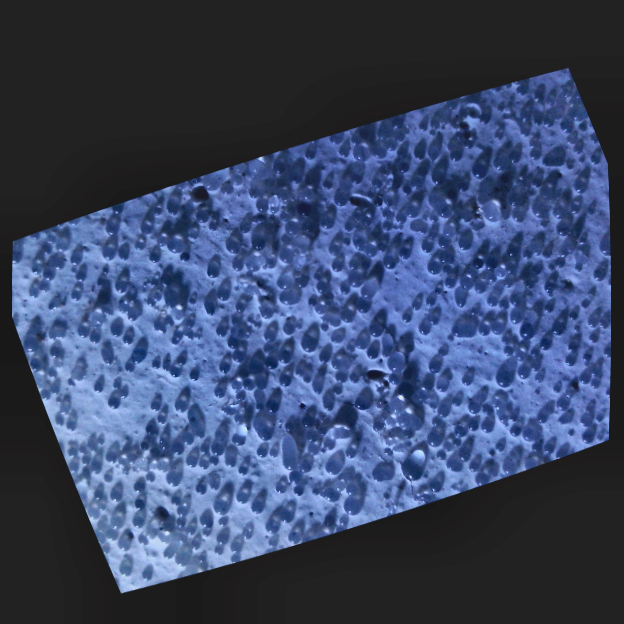GrassBeadSeg: (137, 144, 582, 546), (161, 117, 550, 525), (138, 227, 578, 556), (217, 150, 596, 527), (73, 202, 488, 506), (200, 214, 590, 537), (67, 214, 545, 473), (133, 247, 569, 529), (208, 85, 502, 490), (92, 209, 485, 502), (117, 205, 416, 577), (162, 211, 470, 560), (66, 249, 548, 469), (75, 271, 505, 515), (72, 203, 470, 462), (107, 297, 591, 502), (217, 271, 605, 523), (141, 253, 438, 581), (212, 269, 602, 515), (116, 150, 461, 428), (287, 172, 595, 481), (88, 146, 368, 474), (77, 181, 587, 361), (64, 267, 596, 432), (217, 185, 501, 491), (197, 170, 439, 527), (30, 264, 390, 500), (307, 149, 600, 432), (116, 249, 387, 553), (240, 264, 540, 537), (212, 296, 599, 506), (84, 194, 397, 453), (78, 271, 513, 455), (166, 174, 460, 446), (29, 188, 311, 468), (188, 182, 470, 460), (121, 279, 505, 476), (278, 164, 487, 516), (131, 323, 489, 528), (153, 211, 461, 443), (48, 242, 277, 548), (41, 258, 413, 438), (225, 241, 601, 419), (276, 165, 485, 476), (208, 205, 452, 466), (174, 357, 492, 557), (271, 162, 553, 383), (39, 209, 394, 383), (12, 260, 335, 451), (179, 252, 505, 438), (167, 257, 485, 446), (110, 203, 398, 410), (54, 241, 371, 427), (263, 227, 569, 417), (116, 224, 523, 360), (95, 221, 300, 491), (155, 236, 540, 372), (70, 291, 379, 458), (219, 183, 521, 351), (105, 223, 286, 491), (125, 302, 553, 412), (329, 261, 588, 441), (307, 196, 516, 417), (88, 241, 609, 329), (41, 269, 526, 363), (105, 355, 348, 541), (244, 146, 517, 308), (235, 167, 422, 399), (101, 247, 529, 348), (291, 323, 535, 496), (212, 380, 447, 555), (177, 346, 593, 444), (259, 323, 564, 455), (173, 261, 437, 410), (174, 277, 308, 567), (113, 281, 312, 474), (242, 176, 424, 383), (12, 210, 525, 281), (173, 322, 566, 413), (124, 193, 220, 551), (312, 205, 448, 454), (228, 162, 313, 554), (230, 225, 381, 445), (288, 343, 567, 459), (314, 283, 598, 392), (198, 192, 314, 454), (150, 276, 472, 370), (209, 217, 334, 457), (188, 220, 548, 301), (132, 357, 297, 533), (165, 331, 345, 487), (287, 221, 394, 483), (299, 237, 497, 376), (28, 283, 195, 446), (148, 252, 523, 324), (41, 274, 350, 361), (389, 224, 569, 372), (133, 289, 247, 510), (240, 301, 365, 500), (322, 224, 457, 406), (58, 406, 312, 494), (120, 335, 248, 504), (75, 325, 576, 367), (156, 322, 249, 540), (109, 301, 195, 534), (88, 312, 186, 516), (165, 238, 230, 536), (235, 413, 547, 475), (255, 360, 442, 457), (296, 203, 542, 276), (49, 351, 587, 384), (359, 365, 590, 440), (151, 281, 267, 429), (366, 324, 481, 472), (185, 351, 329, 468), (228, 403, 333, 563), (263, 397, 381, 533), (416, 176, 582, 272), (450, 323, 565, 456), (96, 459, 298, 533), (108, 376, 473, 413), (138, 223, 518, 257), (214, 373, 289, 543), (328, 134, 433, 249), (249, 338, 317, 514), (194, 375, 291, 495), (70, 290, 159, 411), (343, 225, 454, 322), (337, 134, 445, 231), (167, 449, 274, 544), (286, 372, 345, 543), (100, 437, 186, 552), (97, 474, 211, 559), (229, 315, 342, 397), (176, 336, 401, 377), (149, 370, 360, 412), (432, 320, 501, 447), (284, 351, 513, 387), (204, 265, 370, 313), (134, 240, 200, 344), (106, 398, 181, 488), (93, 332, 200, 394), (364, 348, 431, 447), (277, 249, 323, 393), (508, 281, 555, 421), (338, 447, 424, 523), (22, 229, 78, 345), (322, 439, 442, 492), (441, 107, 547, 166), (331, 204, 420, 273), (220, 366, 324, 425), (368, 264, 441, 348), (48, 364, 112, 456), (509, 343, 561, 454), (395, 138, 520, 183), (562, 262, 610, 368), (139, 205, 277, 241), (275, 422, 341, 497), (491, 339, 551, 421), (95, 277, 193, 327), (86, 460, 164, 520), (171, 444, 446, 461), (196, 307, 231, 438), (521, 198, 583, 271), (63, 280, 149, 332), (375, 380, 421, 477), (326, 243, 610, 257), (233, 266, 298, 327), (248, 161, 293, 249), (527, 100, 596, 156), (196, 174, 267, 228), (234, 285, 375, 312), (384, 447, 459, 497), (278, 223, 322, 305), (550, 387, 608, 446), (497, 156, 547, 218), (272, 181, 331, 232), (322, 136, 381, 187), (230, 349, 303, 390), (566, 353, 600, 441), (160, 499, 205, 563), (379, 382, 424, 445), (491, 157, 549, 205), (202, 175, 248, 232), (332, 360, 438, 383), (352, 179, 406, 223), (344, 273, 474, 291), (528, 136, 598, 169), (146, 278, 193, 327), (516, 85, 570, 127), (362, 247, 449, 273), (373, 117, 423, 160), (339, 238, 363, 322), (480, 420, 516, 475), (261, 298, 314, 334), (48, 329, 111, 359), (237, 310, 279, 355), (80, 439, 139, 471), (277, 272, 323, 312), (360, 215, 435, 239), (127, 282, 174, 320), (299, 388, 342, 429), (416, 99, 460, 138), (558, 204, 591, 256), (343, 238, 393, 270), (472, 389, 511, 427), (419, 382, 460, 418), (140, 433, 169, 482), (441, 443, 483, 476), (109, 322, 141, 362), (23, 338, 47, 391), (69, 254, 107, 287), (41, 368, 79, 400), (48, 347, 76, 386), (245, 255, 289, 279), (473, 461, 511, 485), (465, 399, 494, 430), (107, 456, 154, 473), (324, 484, 344, 523), (291, 314, 339, 330), (377, 461, 417, 480), (493, 266, 535, 284), (518, 177, 547, 199), (370, 450, 390, 480), (533, 202, 566, 219), (103, 351, 143, 365), (404, 240, 431, 259), (430, 417, 447, 446), (143, 425, 181, 436), (393, 246, 409, 266), (488, 202, 502, 223), (291, 240, 309, 256), (445, 331, 466, 343), (352, 238, 373, 250), (311, 301, 330, 314), (353, 398, 369, 411), (413, 478, 415, 479)
